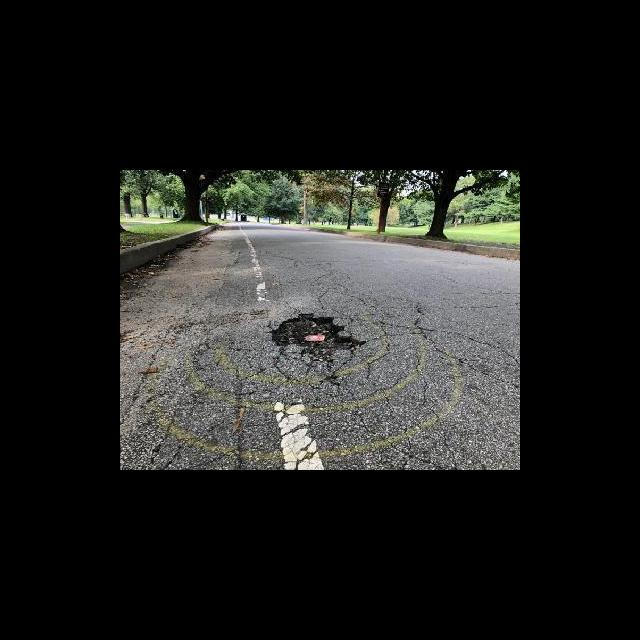lubang_kecil: (258, 306, 368, 368)
